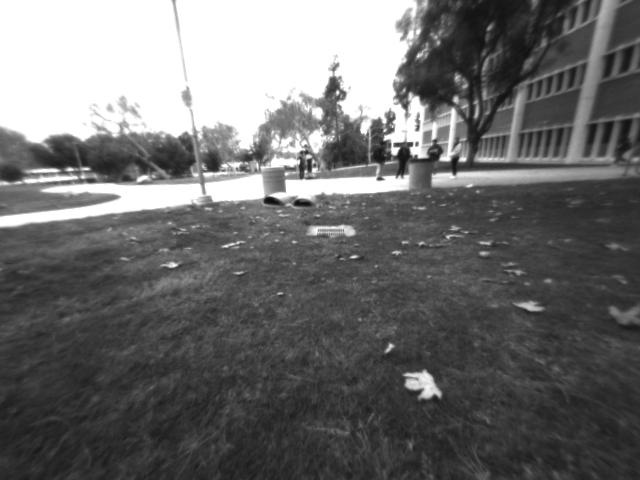trashcan: (261, 166, 288, 197), (408, 158, 430, 191)
